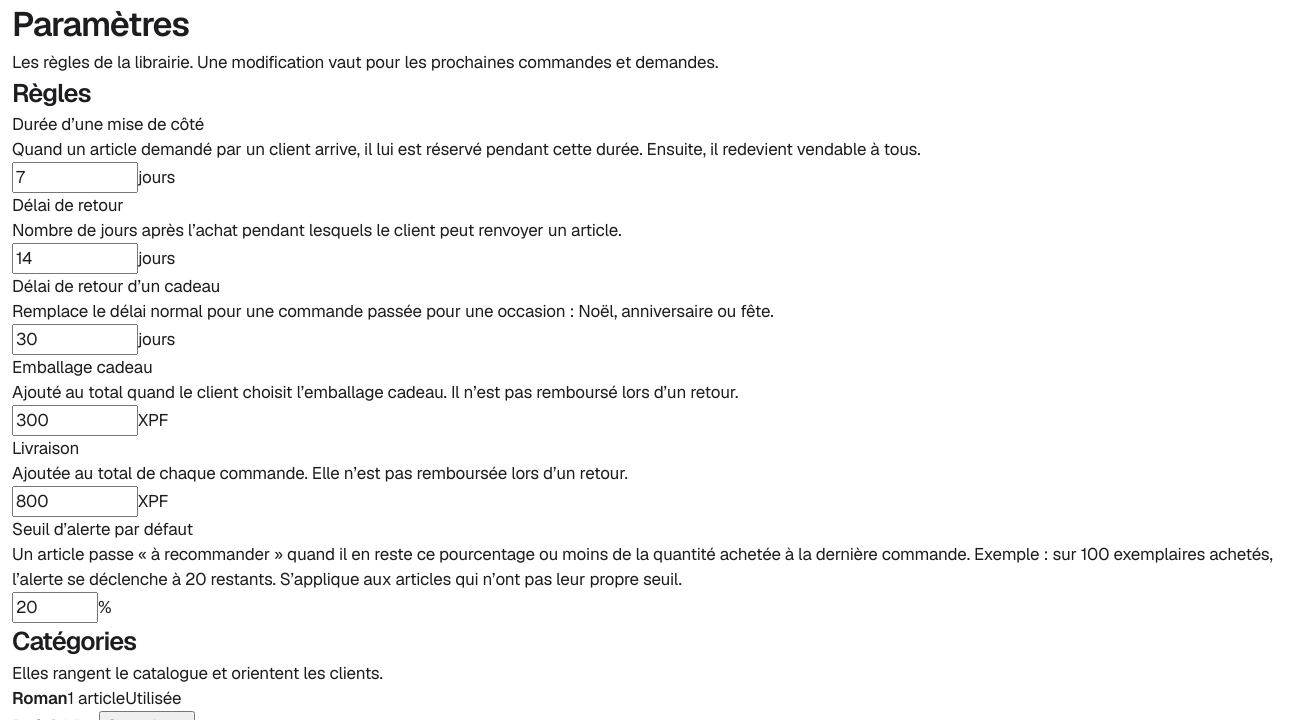
Test case: page des paramètres › vérifie chaque valeur avant d envoyer
The image size is (1292, 720).
Replace the text in the number field named "Seuil d’alerte par défaut (%)" with "120": {"x": 55, "y": 608} [12,592,98,623]
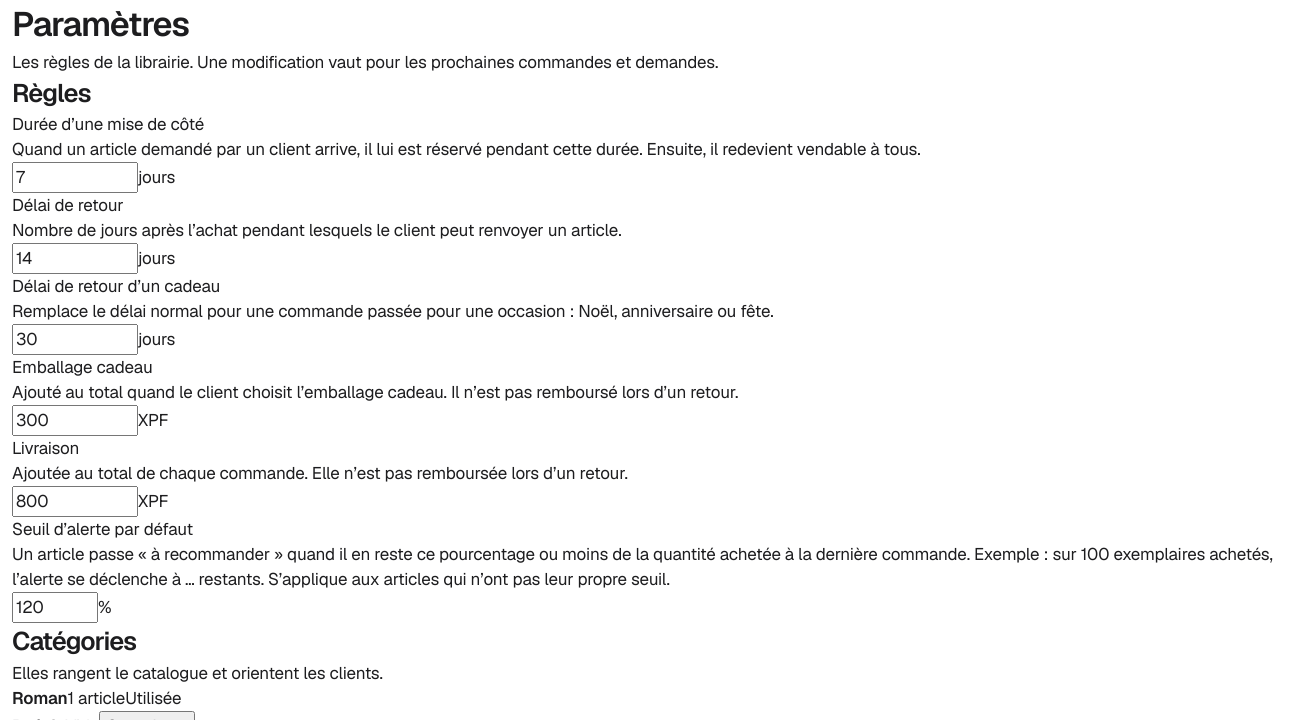
Clear the number field named "Délai de retour (jours)": {"x": 75, "y": 259} [12,243,138,274]
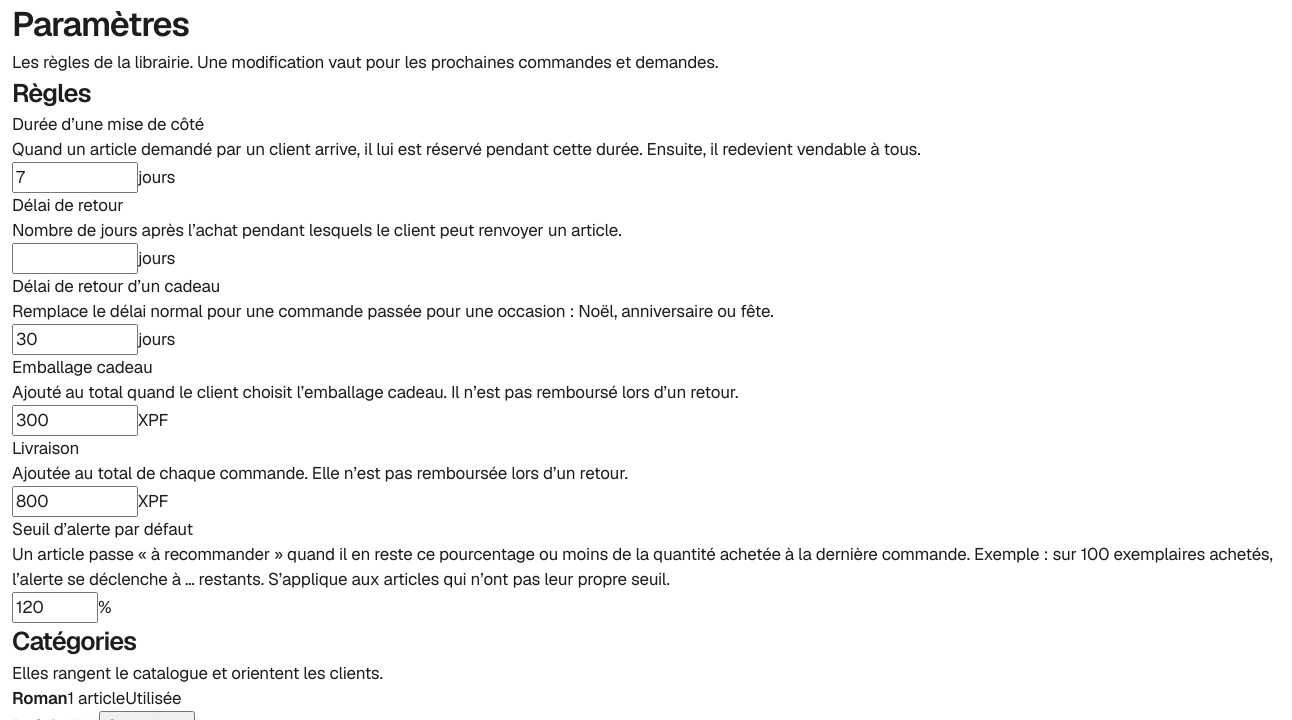
Replace the text in the number field named "Emballage cadeau (XPF)" with "2.5": {"x": 75, "y": 421} [12,405,138,436]
(page scrolled)
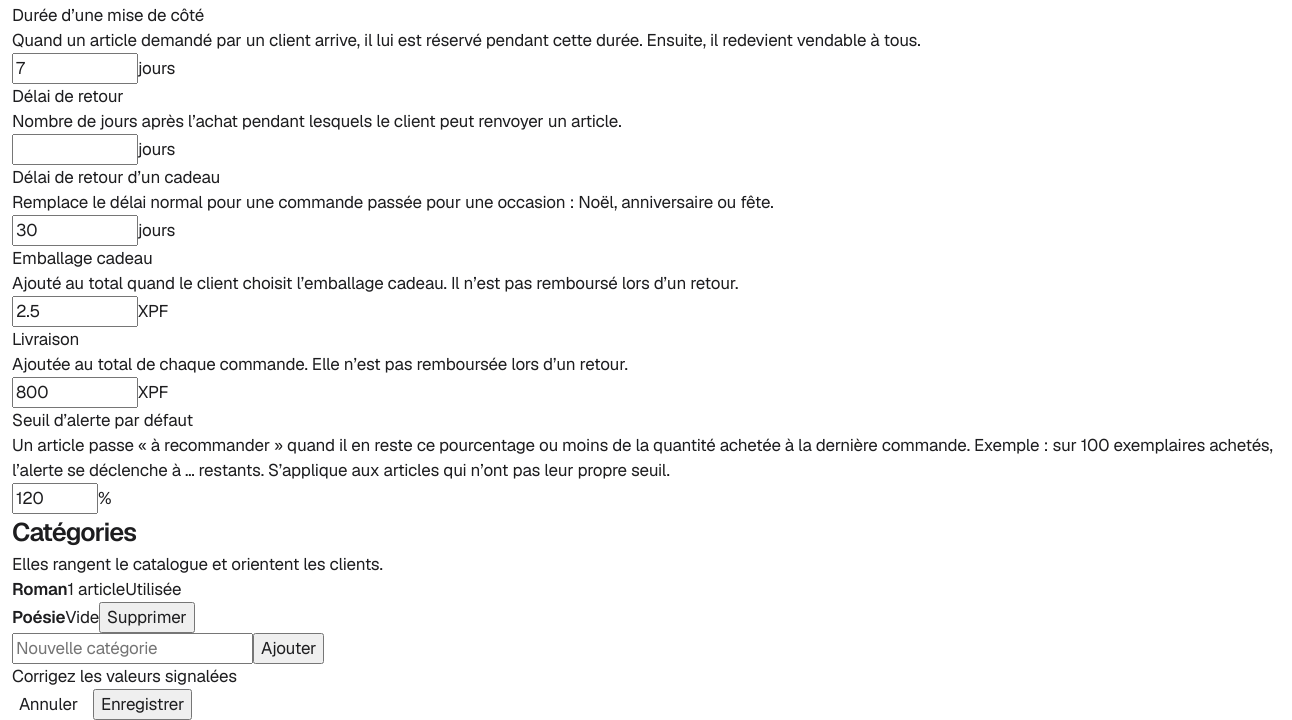
Click the button "Enregistrer": {"x": 143, "y": 704} [93,688,192,719]
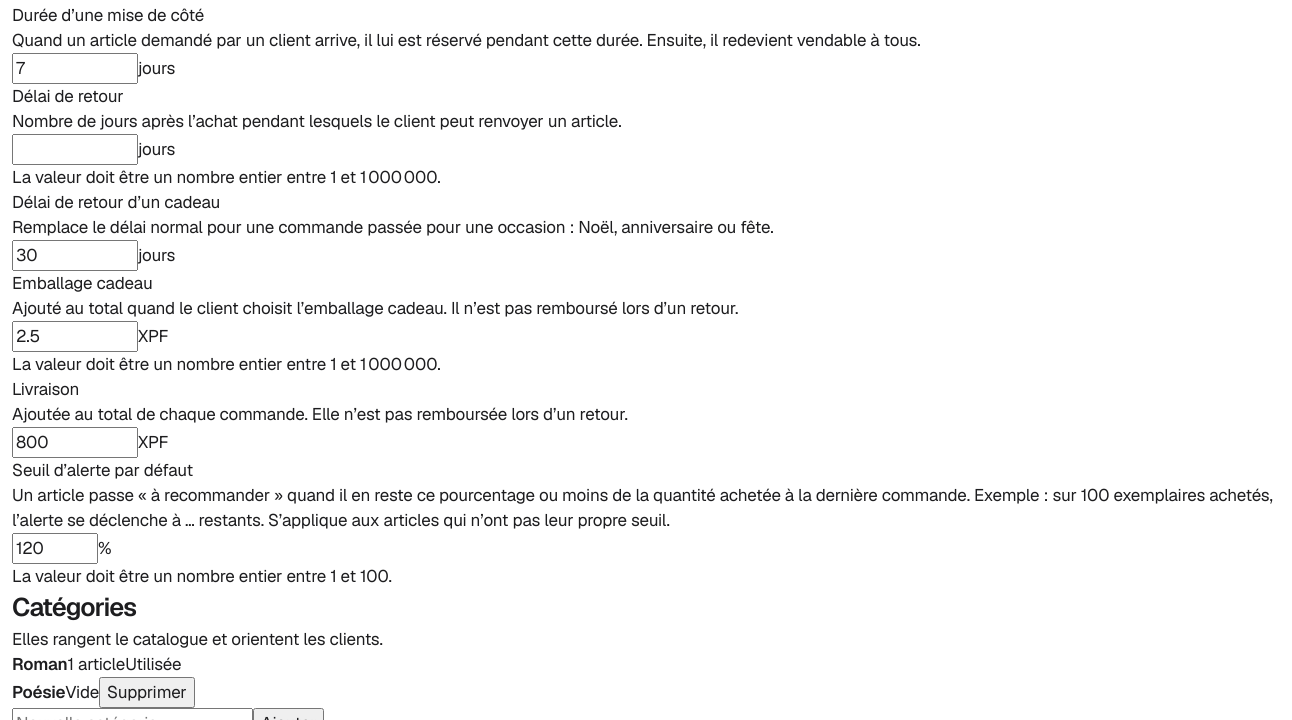
Expected: the number field named "Emballage cadeau (XPF)" is marked as invalid, [12,321,138,352]
